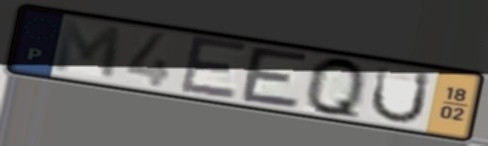4: (122, 30, 174, 91)
E: (238, 44, 313, 112), (177, 33, 251, 101)
M: (51, 16, 125, 83)
Q: (304, 54, 367, 125)
U: (367, 63, 435, 125)
